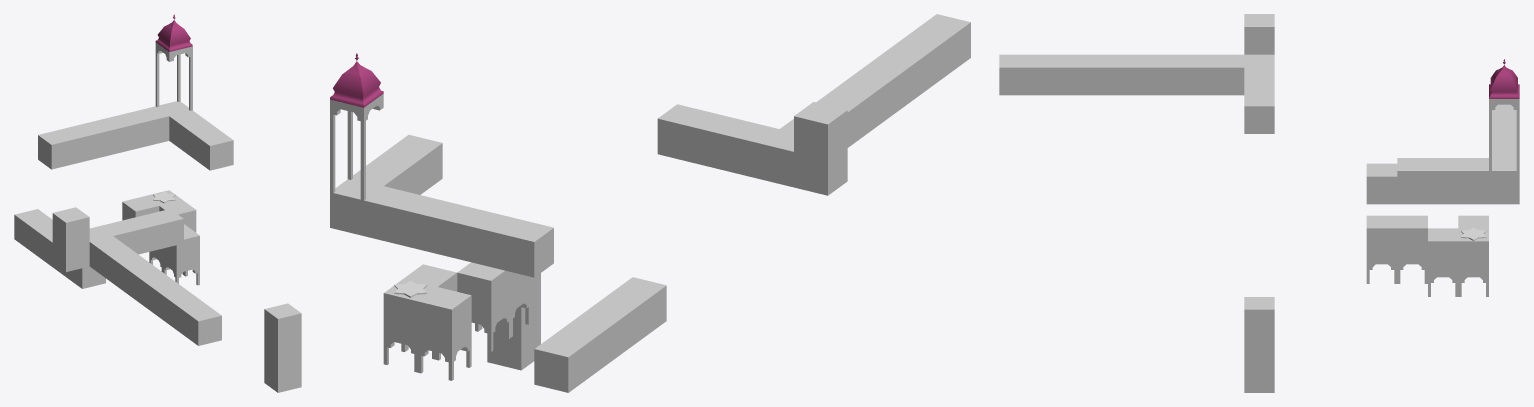
Rendered from s3 main.FBX.
The picture shows the model from 3 angles, left to right: view 1: azimuth 30°, elevation 25°; view 2: azimuth 150°, elevation 25°; view 3: azimuth 270°, elevation 25°; orthographic projection. The views are drawn at different scales.
Visible parts, largest first — view 1: Box183, Box177, Box186, Box184, Box178, Box001, Box185, Object041, Box190, Object005, Box191, Box188 (+1 smaller); view 2: Box177, Box183, Box001, Box184, Box185, Box178, Box186, Box191, Box189, Object041, Box187, Object005 (+4 smaller); view 3: Box183, Box178, Box186, Box177, Box184, Box001, Box190, Box189, Box188, Box185, Box187, Object005 (+5 smaller).
Part boxes in pixels (box(x1,y1,x2,y2)): Box183: box(89, 236, 221, 345); Box177: box(38, 101, 189, 169); Box186: box(264, 303, 301, 392); Box184: box(89, 209, 183, 254); Box178: box(169, 110, 233, 170); Box001: box(14, 209, 105, 288); Box185: box(52, 207, 89, 271); Object041: box(155, 45, 192, 110); Box190: box(163, 226, 199, 265); Object005: box(155, 14, 192, 51); Box191: box(122, 196, 159, 220); Box188: box(159, 200, 196, 232); Box177: box(330, 178, 553, 277); Box183: box(780, 14, 970, 147); Box001: box(534, 277, 666, 392); Box184: box(657, 104, 793, 187); Box185: box(794, 102, 847, 195); Box178: box(353, 134, 442, 194); Box186: box(487, 273, 540, 370); Box191: box(418, 287, 471, 345); Box189: box(457, 262, 510, 316); Object041: box(330, 97, 383, 200); Box187: box(383, 278, 436, 336); Object005: box(330, 53, 383, 107); Box183: box(999, 54, 1244, 95); Box178: box(1397, 158, 1488, 198); Box186: box(1244, 297, 1274, 392); Box177: box(1489, 104, 1519, 198); Box184: box(1244, 54, 1274, 133); Box001: box(1366, 163, 1519, 204); Box190: box(1366, 215, 1397, 256); Box189: box(1397, 215, 1427, 256); Box188: box(1428, 228, 1458, 268); Box185: box(1244, 14, 1274, 54); Box187: box(1458, 228, 1488, 268); Object005: box(1489, 59, 1519, 98).
Size of the model in its own units: 1000 by 1183 by 1700.
